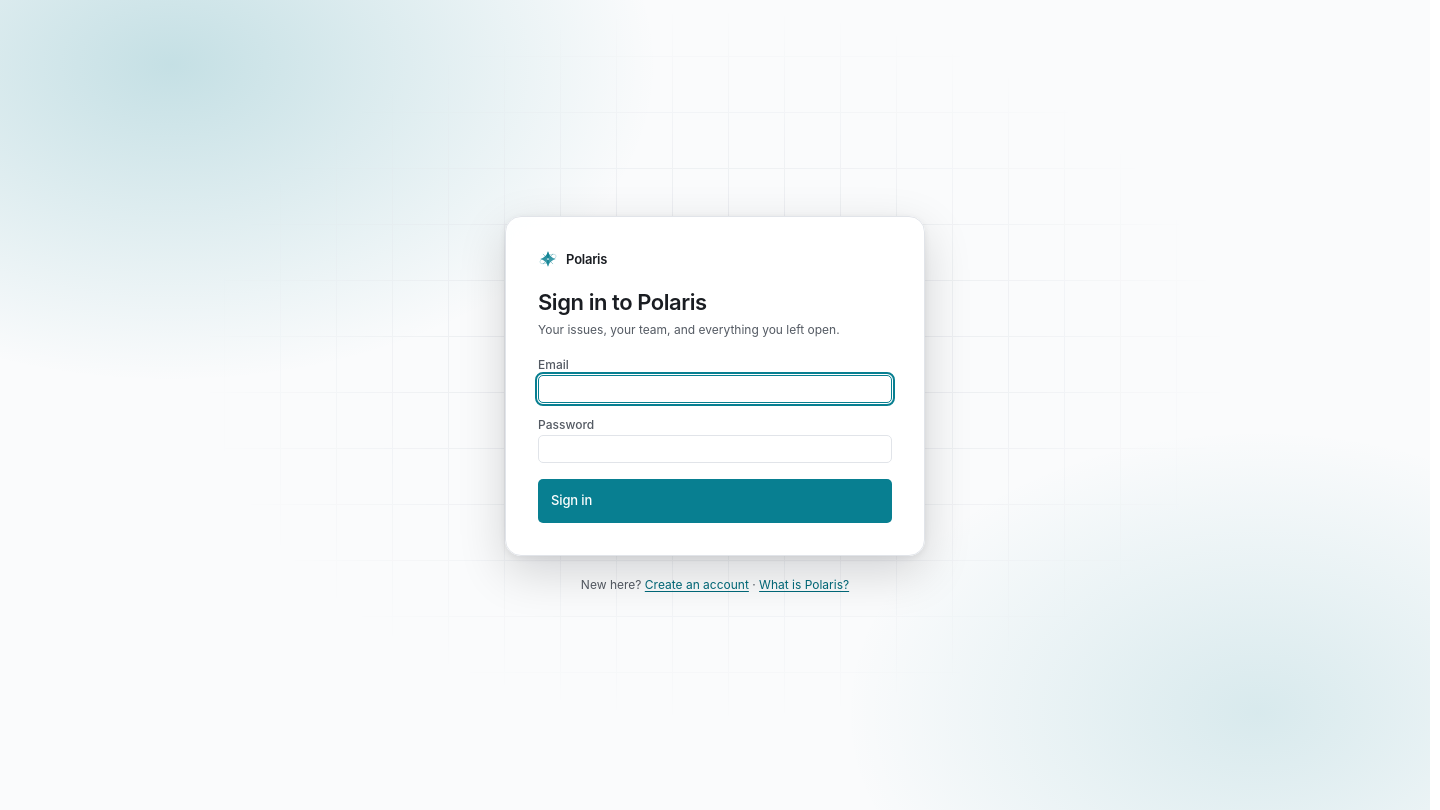
SignIn › catches a malformed address before the round trip
The image size is (1440, 810).
Type "ada@example" into the field labelled "Email" at (715, 389), box [547, 376, 883, 402]
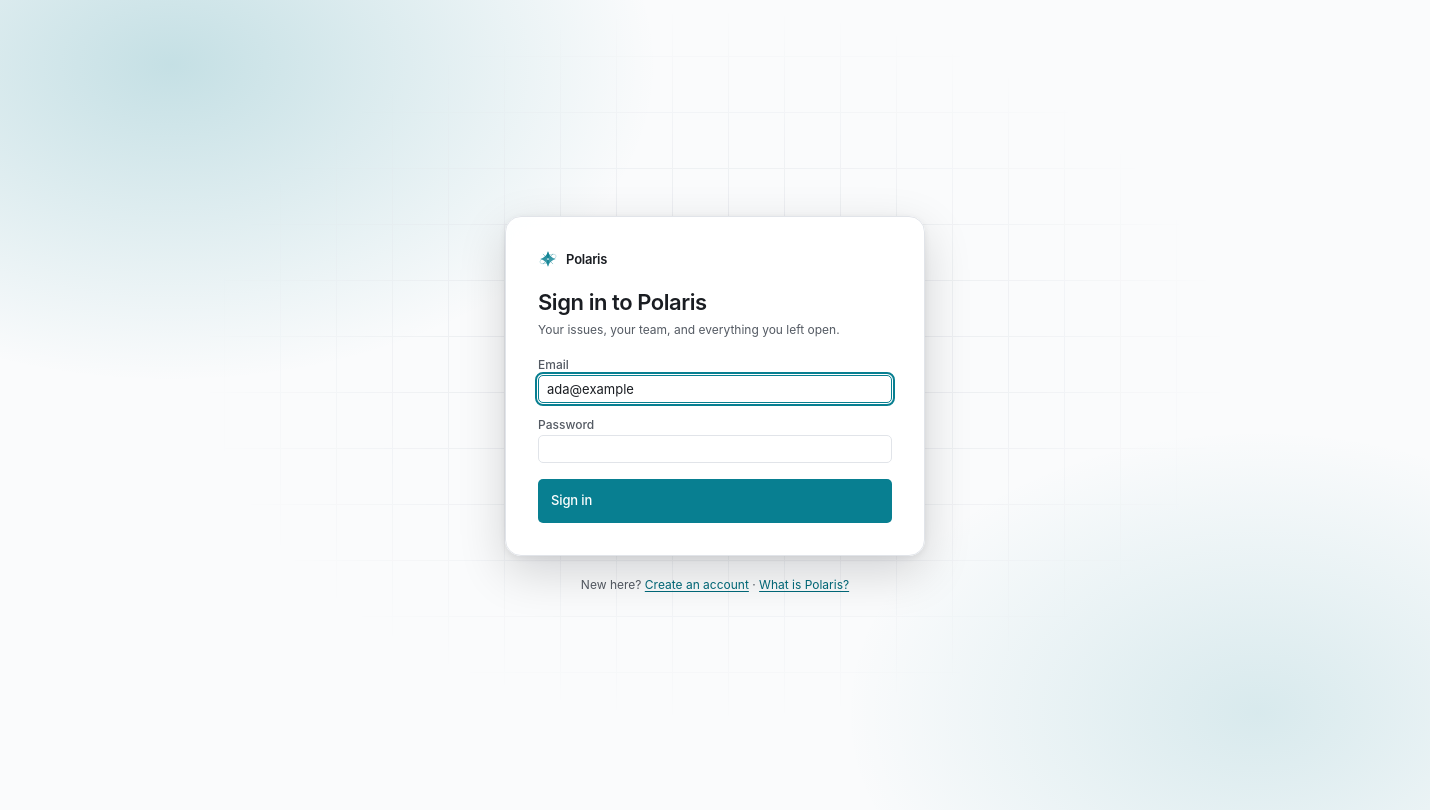
Type "passphrase1" into the password field labelled "Password" at (715, 449), box [547, 436, 883, 462]
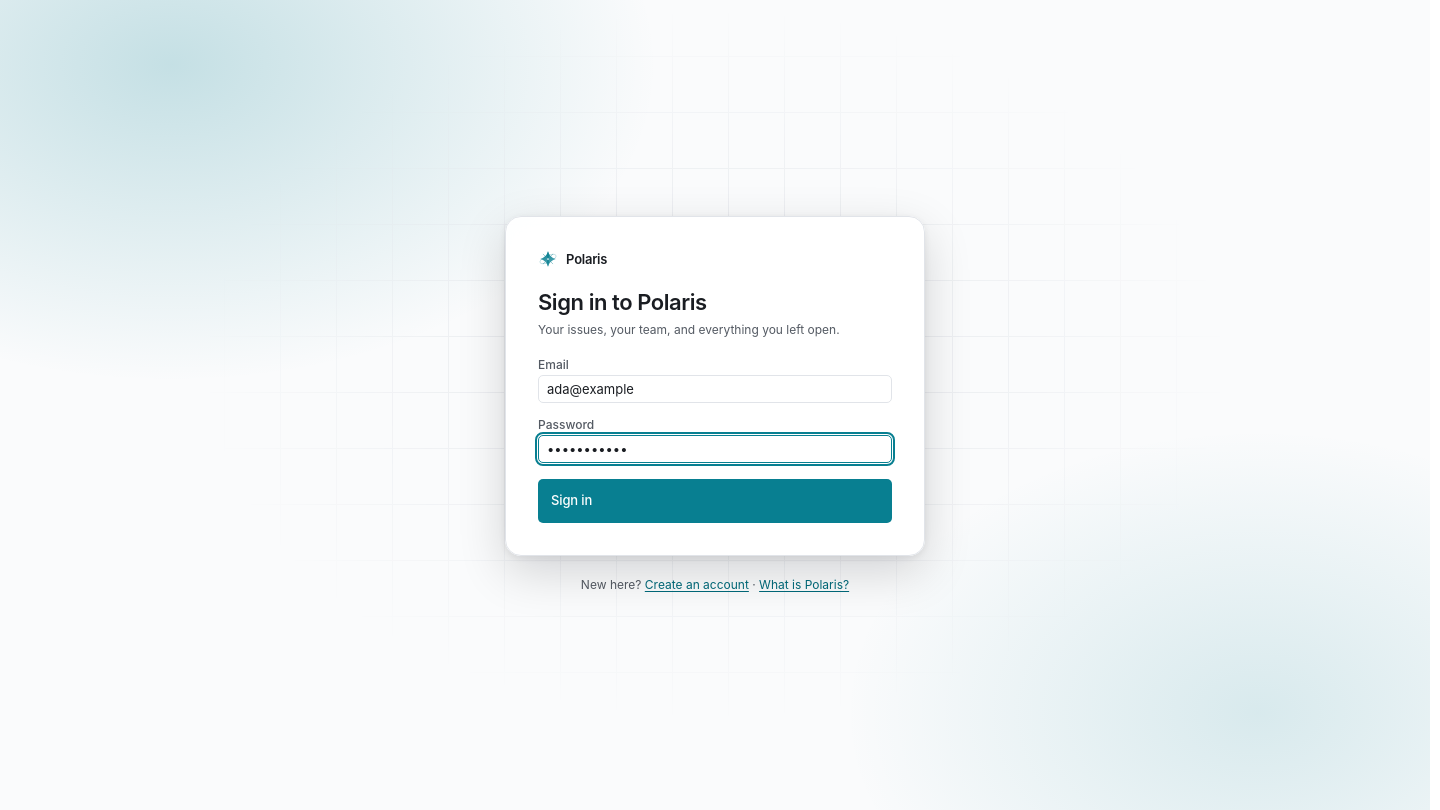
Click the button "Sign in" at (572, 500), box [538, 479, 892, 523]
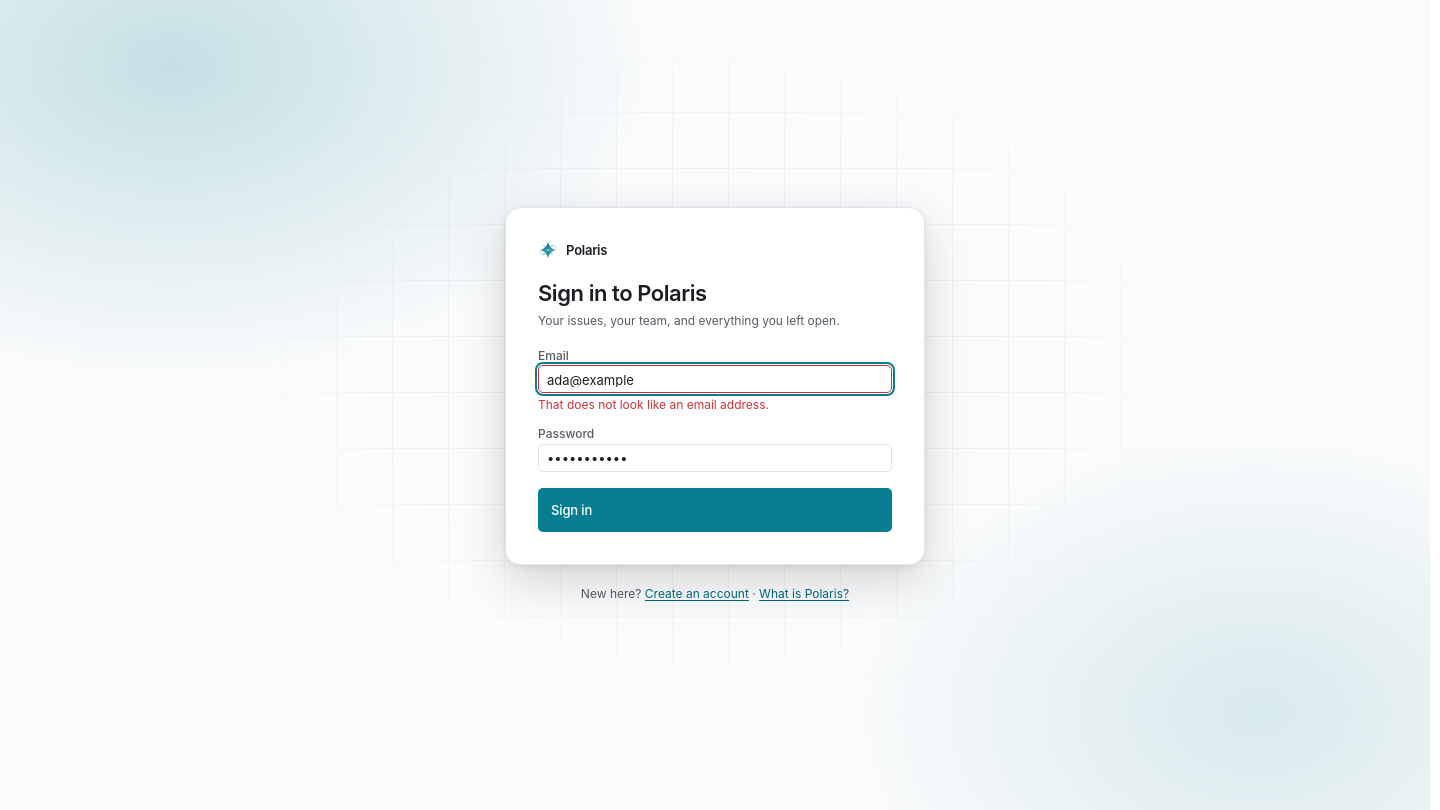
Result: the message shows "email address" at [538, 397, 769, 412]
